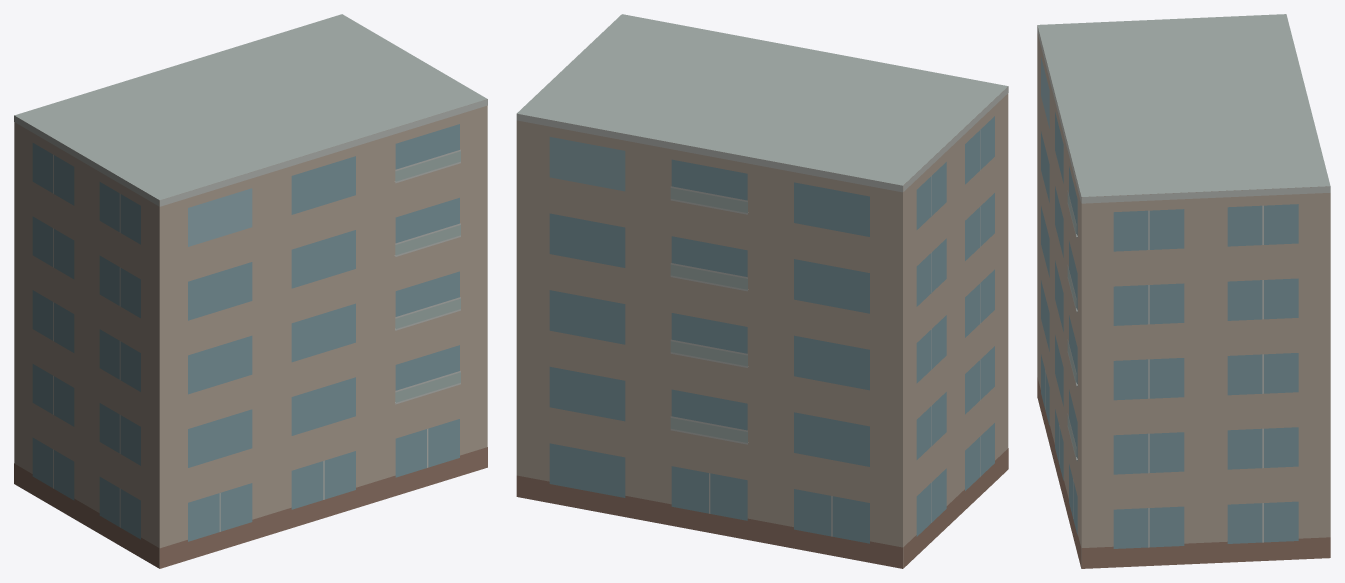
Rendered from survey-upis-32854393.glb.
The picture shows the model from 3 angles, left to right: view 1: azimuth 30°, elevation 25°; view 2: azimuth 150°, elevation 25°; view 3: azimuth 270°, elevation 25°; orthographic projection. The views are drawn at different scales.
Visible parts, largest first — view 1: survey-upis-32854393.tmp; view 2: survey-upis-32854393.tmp; view 3: survey-upis-32854393.tmp.
Part boxes in pixels (left/top/right/bottom): survey-upis-32854393.tmp: left=14, top=14, right=487, bottom=568; survey-upis-32854393.tmp: left=516, top=14, right=1008, bottom=568; survey-upis-32854393.tmp: left=1037, top=14, right=1330, bottom=568.
Size of the model in its own units: 14.58 by 13.8 by 9.88.
